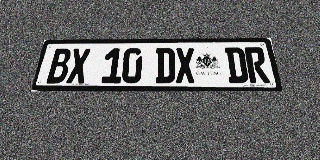0: (121, 48, 143, 83)
1: (101, 48, 124, 83)
B: (46, 48, 72, 83)
D: (225, 47, 249, 83), (155, 48, 175, 83)
R: (244, 47, 270, 83)
X: (66, 48, 91, 83), (175, 48, 196, 83)
